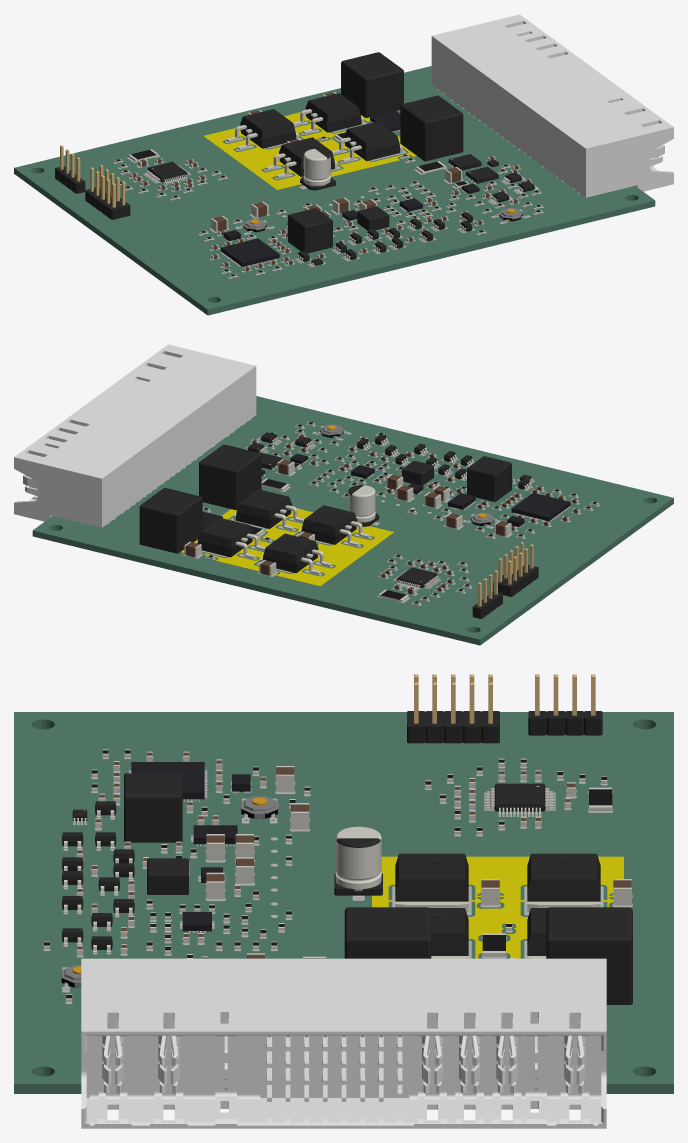
File: board1-rev-b.glb
3 renders of one model, top to bottom at view 1: azimuth 30°, elevation 25°; view 2: azimuth 150°, elevation 25°; view 3: azimuth 270°, elevation 25°, orthographic. The views are drawn at different scales.
Parts seen in each view (by area): view 1: =>[0:1:1:324], =>[0:1:1:215], =>[0:1:1:126] (×2), =>[0:1:1:322], =>[0:1:1:323], =>[0:1:1:122], =>[0:1:1:120], object 184, object 185, object 182, =>[0:1:1:217], body (+4 smaller); view 2: =>[0:1:1:324], =>[0:1:1:215], =>[0:1:1:126] (×2), =>[0:1:1:322], =>[0:1:1:323], =>[0:1:1:122], object 184, =>[0:1:1:120], object 185, object 182, object 183, body (+4 smaller); view 3: =>[0:1:1:324], =>[0:1:1:215], =>[0:1:1:126] (×2), =>[0:1:1:322], =>[0:1:1:323], =>[0:1:1:122], =>[0:1:1:120], object 182, object 183, =>[0:1:1:217], =>[0:1:1:124], body (×2) (+5 smaller).
Part boxes in pixels (x1=…): =>[0:1:1:324]: x1=14, y1=66, x2=655, y2=315; =>[0:1:1:215]: x1=431, y1=14, x2=673, y2=197; =>[0:1:1:126] (×2): x1=341, y1=52, x2=463, y2=161; =>[0:1:1:322]: x1=203, y1=112, x2=416, y2=189; =>[0:1:1:323]: x1=113, y1=89, x2=580, y2=278; =>[0:1:1:122]: x1=288, y1=208, x2=332, y2=253; =>[0:1:1:120]: x1=85, y1=165, x2=130, y2=219; object 184: x1=344, y1=121, x2=400, y2=161; object 185: x1=305, y1=93, x2=361, y2=132; object 182: x1=240, y1=109, x2=296, y2=148; =>[0:1:1:217]: x1=300, y1=148, x2=335, y2=190; body: x1=221, y1=238, x2=279, y2=266; =>[0:1:1:324]: x1=32, y1=396, x2=673, y2=645; =>[0:1:1:215]: x1=14, y1=344, x2=256, y2=527; =>[0:1:1:126] (×2): x1=139, y1=444, x2=261, y2=553; =>[0:1:1:322]: x1=180, y1=508, x2=393, y2=586; =>[0:1:1:323]: x1=107, y1=419, x2=599, y2=605; =>[0:1:1:122]: x1=467, y1=456, x2=511, y2=501; object 184: x1=236, y1=489, x2=291, y2=528; =>[0:1:1:120]: x1=493, y1=542, x2=538, y2=596; object 185: x1=197, y1=517, x2=253, y2=557; object 182: x1=262, y1=533, x2=318, y2=573; object 183: x1=301, y1=505, x2=357, y2=544; body: x1=511, y1=492, x2=570, y2=521; =>[0:1:1:324]: x1=14, y1=712, x2=673, y2=1093; =>[0:1:1:215]: x1=81, y1=958, x2=606, y2=1128; =>[0:1:1:126] (×2): x1=344, y1=907, x2=632, y2=1004; =>[0:1:1:322]: x1=372, y1=856, x2=623, y2=958; =>[0:1:1:323]: x1=43, y1=752, x2=632, y2=1003; =>[0:1:1:122]: x1=124, y1=773, x2=182, y2=842; =>[0:1:1:120]: x1=407, y1=674, x2=499, y2=743; object 182: x1=527, y1=853, x2=600, y2=901; object 183: x1=395, y1=853, x2=468, y2=901; =>[0:1:1:217]: x1=334, y1=826, x2=382, y2=898; =>[0:1:1:124]: x1=528, y1=674, x2=602, y2=735; body (×2): x1=131, y1=762, x2=237, y2=844.
Bounding box in the file's own units: 0.1303 × 0.0156 × 0.09.
